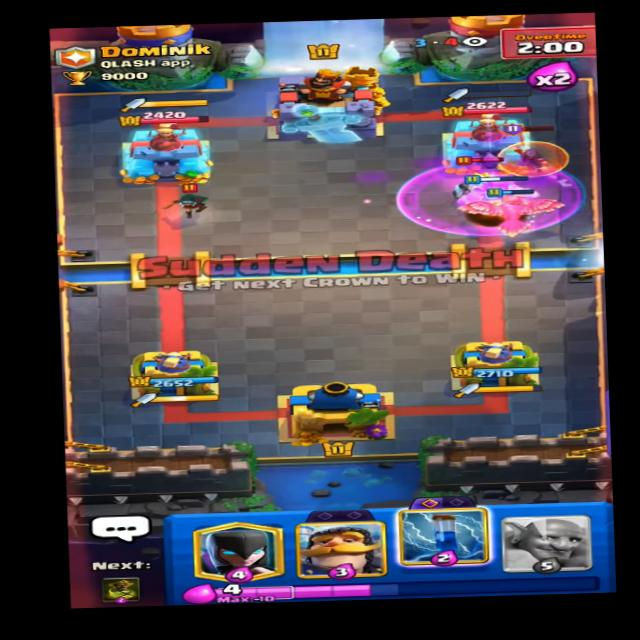bandit: (163, 182, 213, 219)
evo-wizard: (493, 122, 571, 177)
royal-ghost: (439, 151, 508, 199)
